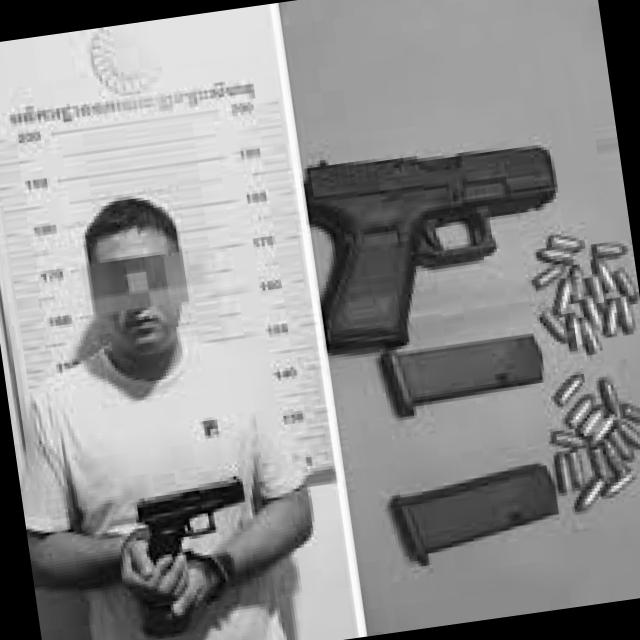gun: (296, 125, 578, 362), (132, 470, 258, 577)
